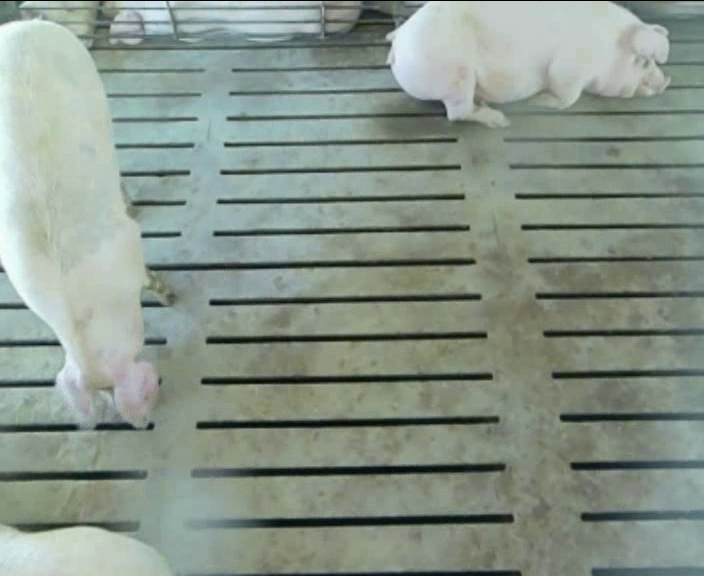pig: (0, 20, 171, 425), (387, 2, 668, 126)
